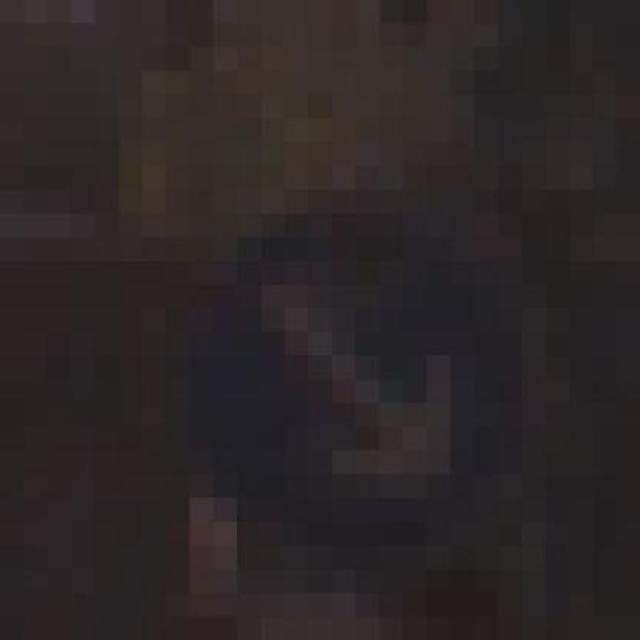Keep-Right: (166, 190, 569, 568)
